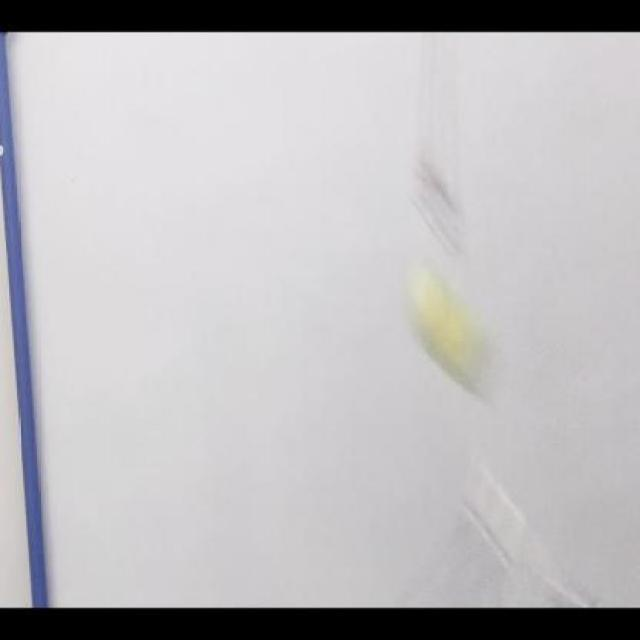baseball: (404, 266, 490, 402)
